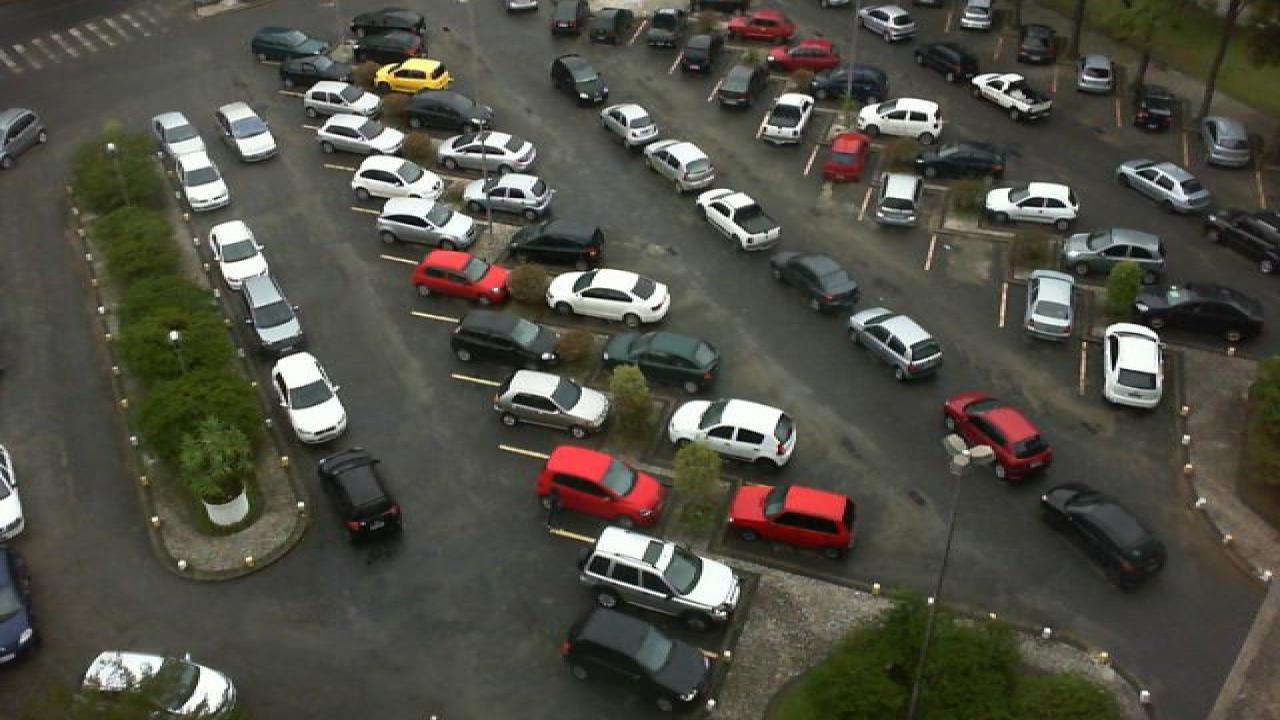Car: (578, 524, 746, 630), (560, 606, 714, 714), (16, 650, 240, 720), (1038, 483, 1170, 587), (532, 444, 666, 528), (666, 396, 800, 475), (942, 392, 1054, 481), (728, 481, 860, 548), (314, 447, 406, 542), (1130, 281, 1270, 342), (492, 369, 610, 439), (546, 266, 674, 328), (600, 330, 724, 393), (268, 351, 350, 444), (846, 306, 946, 380), (448, 308, 564, 366), (410, 248, 516, 307), (226, 274, 306, 352), (1098, 322, 1168, 410), (692, 187, 784, 252), (770, 251, 862, 313), (372, 196, 476, 250), (1058, 227, 1168, 277), (506, 218, 610, 270), (1116, 157, 1214, 212), (348, 153, 444, 204), (982, 182, 1080, 228), (968, 72, 1056, 122), (1206, 207, 1280, 265), (208, 218, 272, 285), (436, 131, 538, 172), (312, 112, 406, 156), (214, 101, 280, 163), (172, 146, 232, 214), (404, 89, 494, 134), (856, 96, 944, 142), (1022, 269, 1078, 340), (470, 171, 554, 218), (910, 141, 1006, 181), (642, 138, 716, 189), (754, 91, 814, 146), (548, 53, 610, 106), (370, 56, 452, 96), (300, 80, 382, 119), (912, 42, 980, 88), (148, 112, 206, 165), (808, 64, 888, 102), (870, 172, 924, 228), (276, 54, 360, 90), (346, 27, 424, 65), (248, 27, 330, 63), (0, 108, 48, 168), (598, 102, 660, 148), (1200, 116, 1252, 169), (768, 37, 844, 73), (822, 130, 872, 184), (670, 29, 724, 74), (710, 64, 764, 108), (856, 4, 918, 42), (344, 5, 424, 34), (724, 9, 796, 41), (1132, 84, 1178, 130), (1016, 20, 1062, 63), (640, 7, 688, 47), (1074, 53, 1118, 94), (546, 0, 590, 38), (592, 5, 632, 45), (954, 0, 996, 30)
